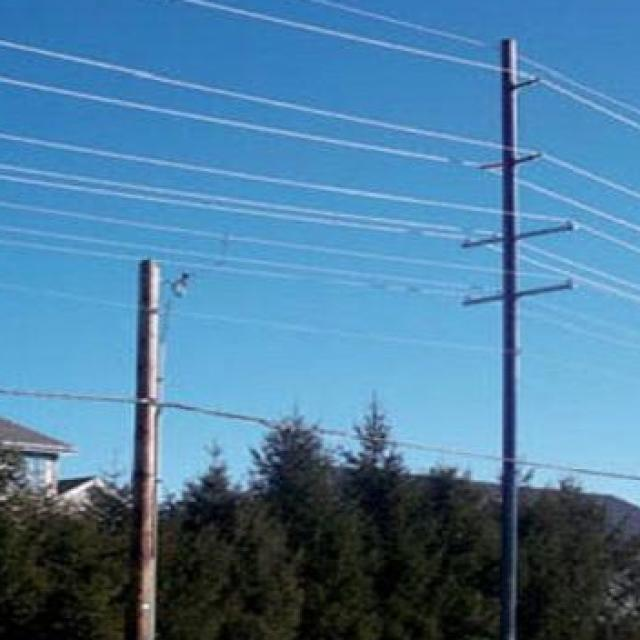non-critical vegetation: (449, 29, 564, 640)
